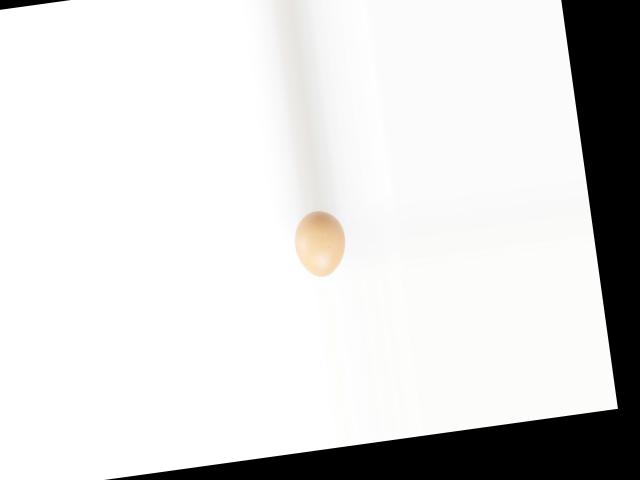egg: (291, 207, 350, 279)
